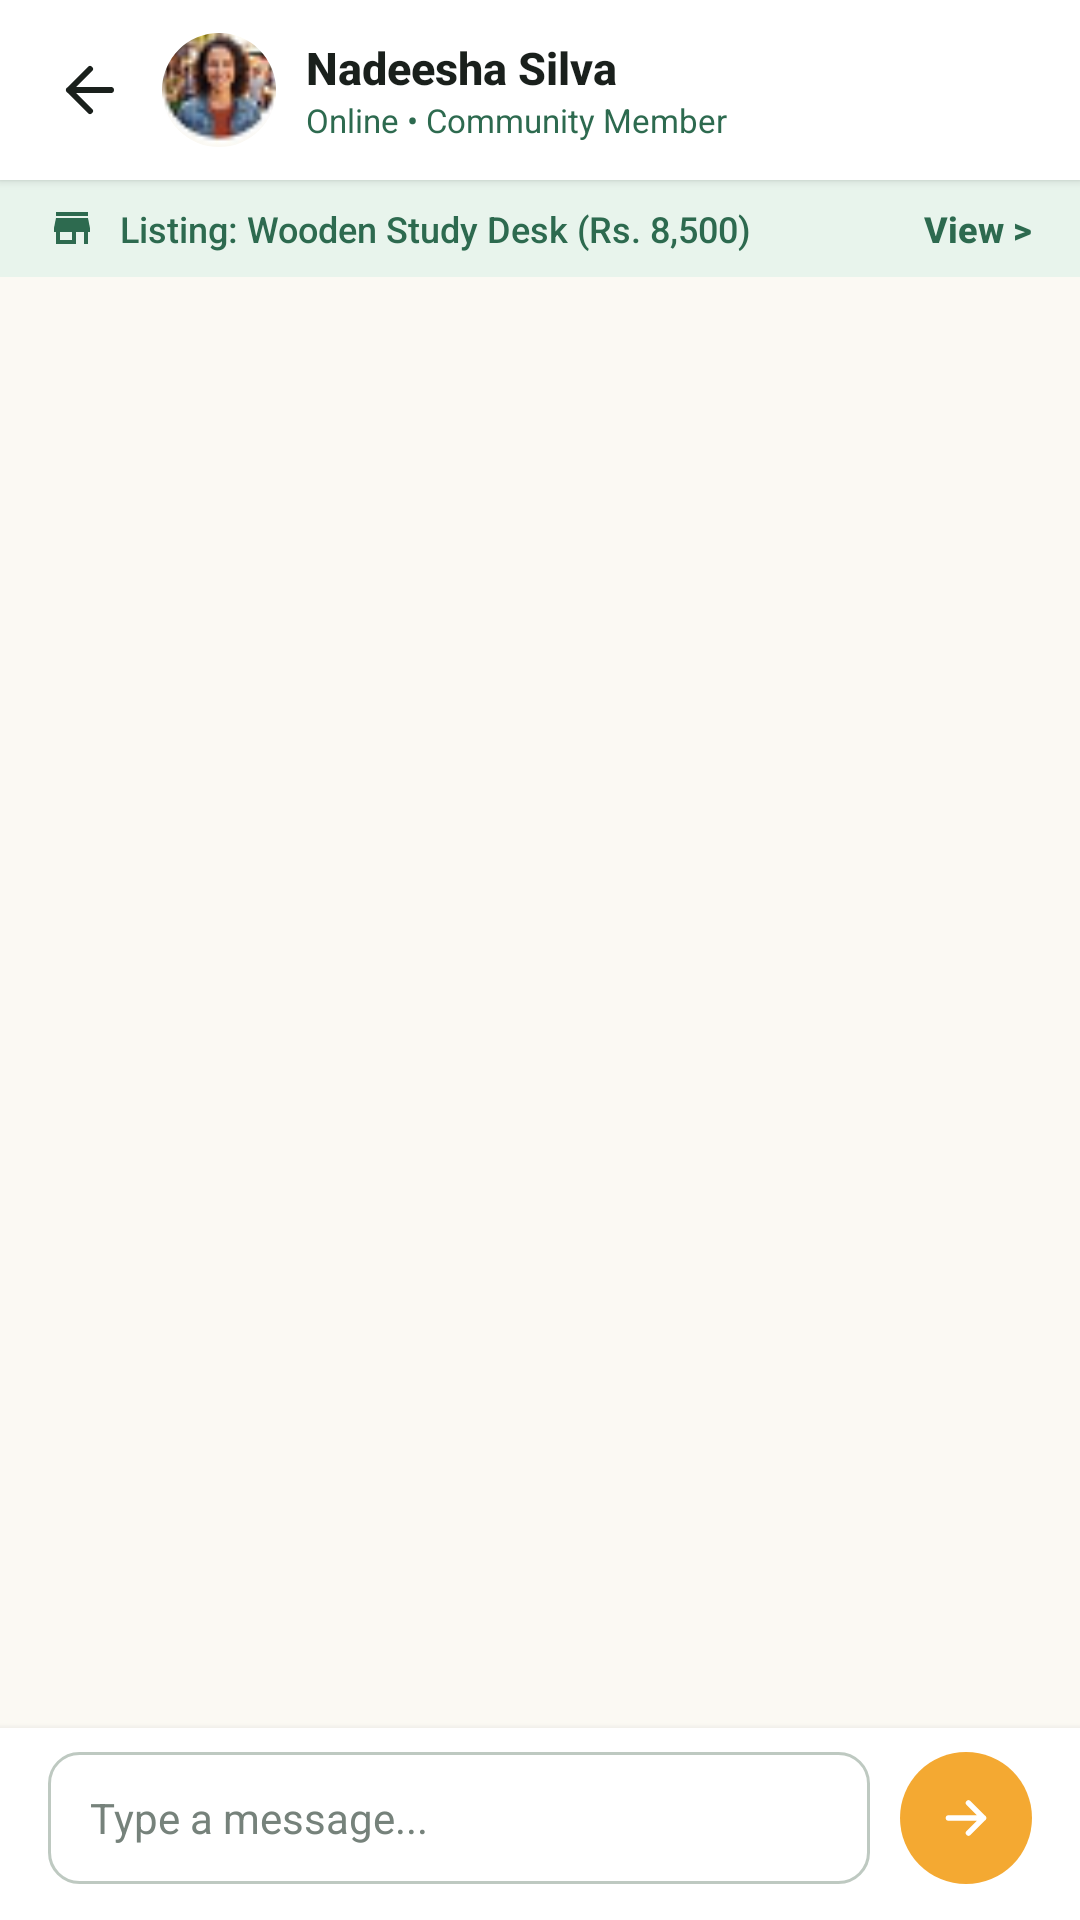

Locate icon controls on the screen. Image size 1080 × 1920, boxes as Rect(x1, y1, x2, y2).
arrow right: Rect(945, 1800, 987, 1836)
back: Rect(66, 66, 114, 114)
market: Rect(54, 212, 90, 244)
